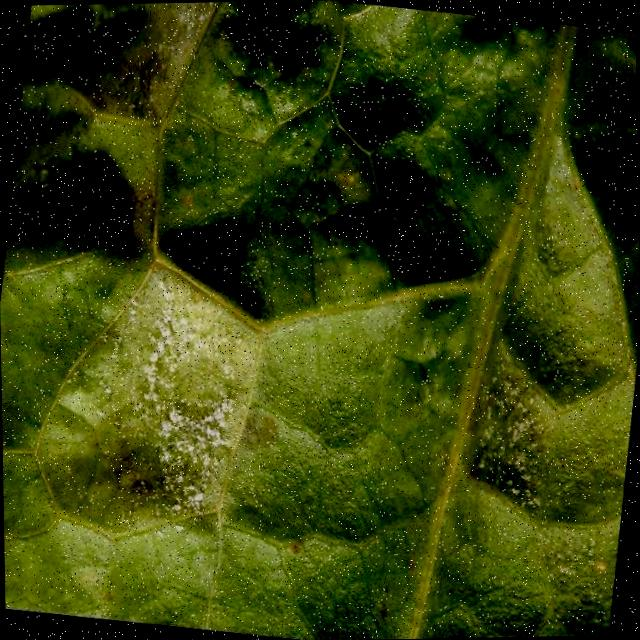Powdery_mildew: (37, 244, 284, 566)
